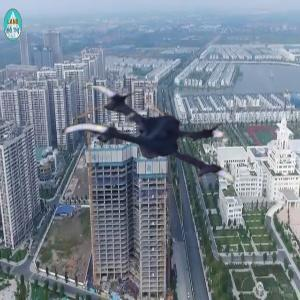drone: (60, 64, 237, 241)
